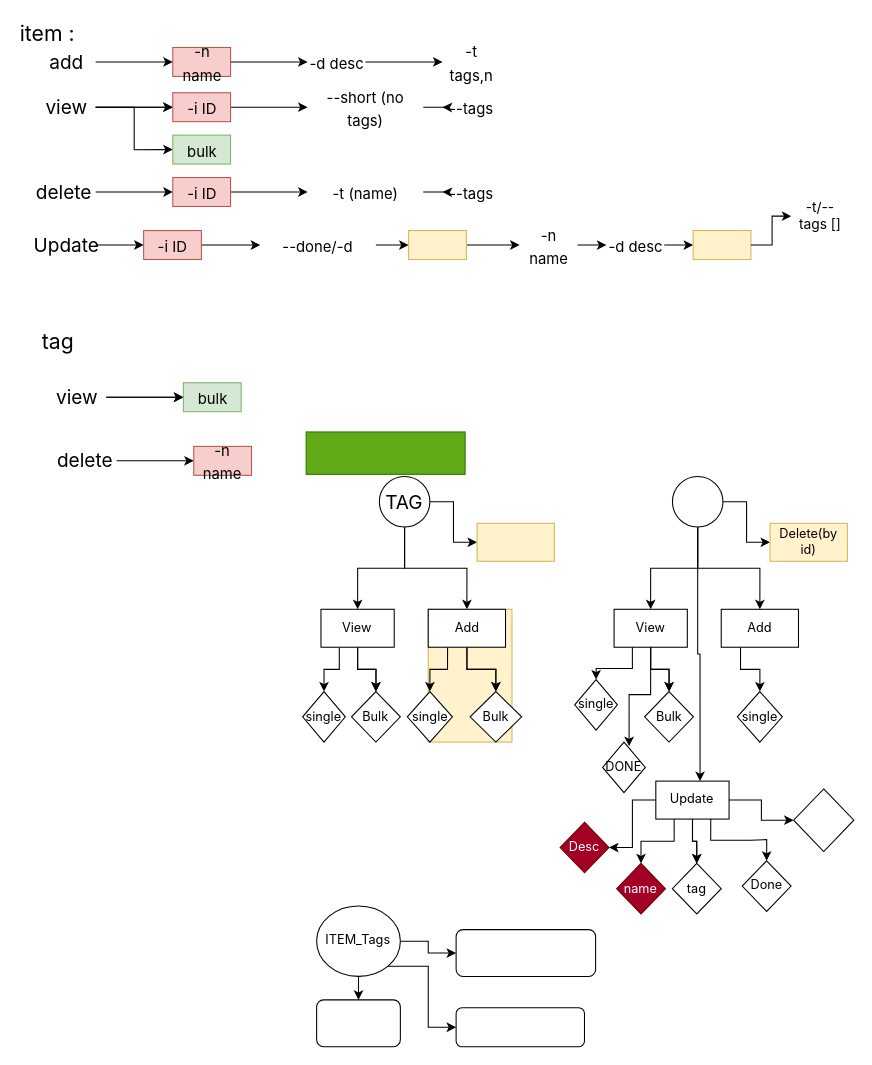
This 872x1065 diagram has some shape labels left out. The box of each missing label's shape, as (x1, y1, x2, y2) in pixels:
--map {"" : ""}: (408, 229, 466, 259)
-ta/--tags-append []: (692, 229, 751, 259)
AddItemTag: (316, 999, 400, 1047)
Delete(by name): (476, 522, 554, 561)
DeleteItemTag: (455, 1007, 584, 1047)
ITEM: (671, 475, 723, 527)
map of fields: (793, 788, 854, 851)
RED : Not Implemented Yellow : Implemented: (305, 431, 465, 474)
ViewItemTagsName: (455, 929, 596, 976)
